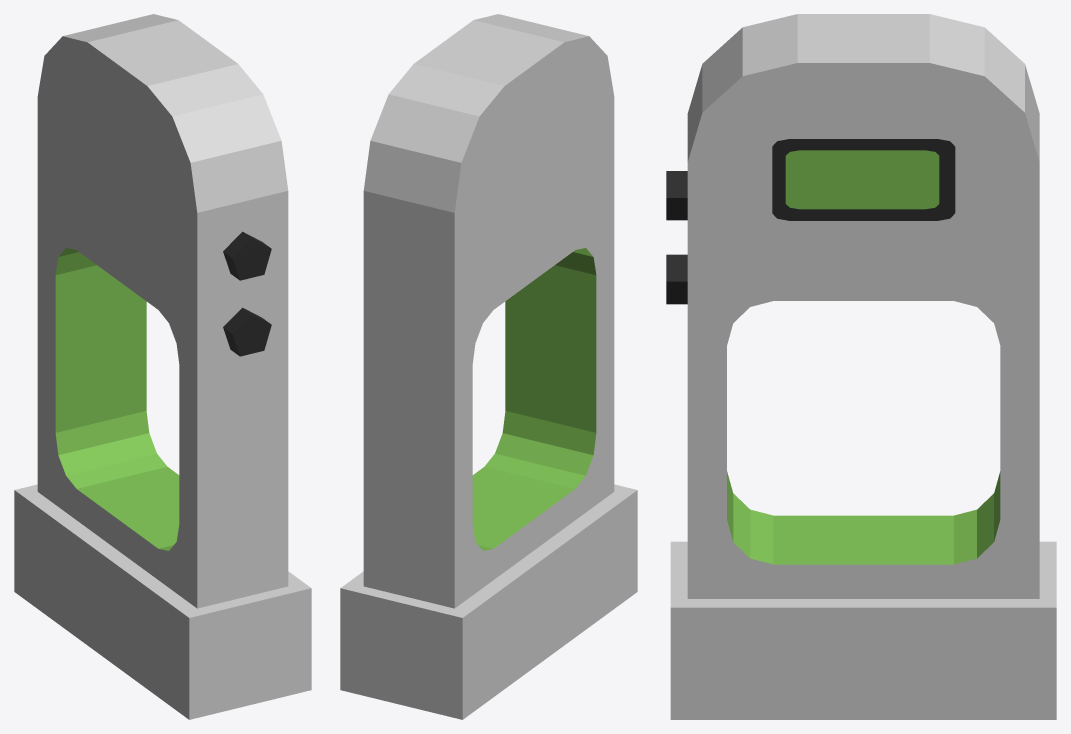
The model's file is ecs_0.fbx.
3 views of the same model, side by side, from view 1: azimuth 30°, elevation 25°; view 2: azimuth 150°, elevation 25°; view 3: azimuth 270°, elevation 25° (orthographic). The views are drawn at different scales.
Parts seen in each view (by area): view 1: Cube; view 2: Cube; view 3: Cube.
Part boxes in pixels (left/top/right/bottom): Cube: left=14, top=14, right=311, bottom=719; Cube: left=340, top=14, right=637, bottom=719; Cube: left=666, top=14, right=1056, bottom=719.
Size of the model in its own units: 125 by 577 by 314.
